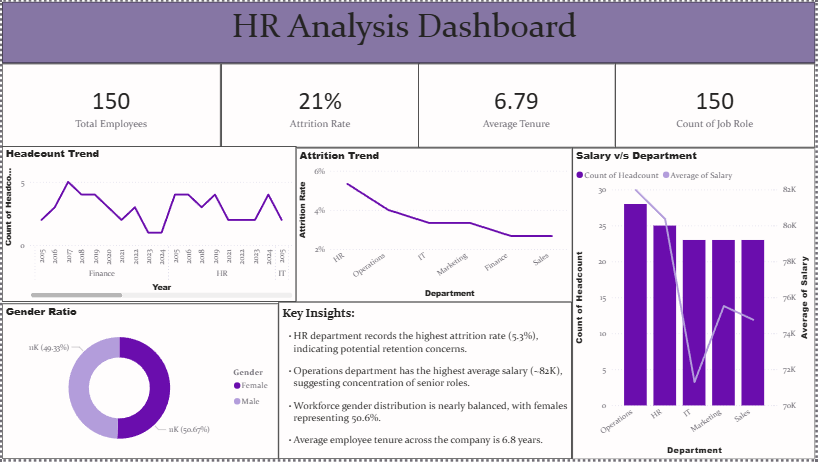

The dashboard page shown, as its layout file describes it:
{"tool":"powerbi","page":{"name":"Page 1","canvas":[1280,720],"ordinal":0},"visuals":[{"type":"card","fields":{"Values":["Count(HR_Dataset_150_Employees.Employee ID)"]},"box":[0,96.7,316.7,131.7],"z":0},{"type":"card","fields":{"Values":["HR_Dataset_150_Employees.Attrition Rate"]},"box":[316.7,98.3,316.7,131.7],"z":1000},{"type":"card","fields":{"Values":["Avg(HR_Dataset_150_Employees.average tenure)"]},"box":[633.3,98.3,333.3,131.7],"z":2000},{"type":"card","fields":{"Values":["Avg(HR_Dataset_150_Employees.Salary)"]},"box":[966.7,96.7,313.3,135],"z":3000},{"type":"textbox","box":[0,0,1280,97.1],"z":4000},{"type":"lineChart","title":"Year-wise Hiring Trend","fields":{"Y":["CountNonNull(HR_Dataset_150_Employees.Headcount)"],"Category":["HR_Dataset_150_Employees.Hire Date.Variation.Date Hierarchy.Year"]},"box":[0,228.3,463.3,245],"z":5000},{"type":"lineChart","title":"Attrition rate by Department","fields":{"Y":["HR_Dataset_150_Employees.Attrition Rate"],"Category":["HR_Dataset_150_Employees.Department"]},"box":[463.3,230,435,243.3],"z":6000},{"type":"lineStackedColumnComboChart","title":"Salary v/s Department","fields":{"Category":["HR_Dataset_150_Employees.Department"],"Y":["CountNonNull(HR_Dataset_150_Employees.Headcount)"],"Y2":["Avg(HR_Dataset_150_Employees.Salary)"]},"box":[897.5,230,382.5,490],"z":7000},{"type":"donutChart","title":"Gender Ratio","fields":{"Category":["HR_Dataset_150_Employees.Gender"],"Y":["Sum(HR_Dataset_150_Employees.Headcount)"]},"box":[0,475,463.8,245],"z":9000},{"type":"textbox","box":[463.8,472.5,433.8,247.5],"z":9001}]}

Visuals, with their boxes in screenshot pixels (x1, y1, x2, y2), scaled from the page's 1280x720 canvas onto the 819x467 screenshot:
card - Count(HR_Dataset_150_Employees.Employee ID): <bbox>0, 63, 203, 148</bbox>
card - HR_Dataset_150_Employees.Attrition Rate: <bbox>203, 64, 405, 149</bbox>
card - Avg(HR_Dataset_150_Employees.average tenure): <bbox>405, 64, 618, 149</bbox>
card - Avg(HR_Dataset_150_Employees.Salary): <bbox>619, 63, 818, 150</bbox>
textbox: <bbox>0, 0, 818, 63</bbox>
"Year-wise Hiring Trend" lineChart: <bbox>0, 148, 296, 307</bbox>
"Attrition rate by Department" lineChart: <bbox>296, 149, 575, 307</bbox>
"Salary v/s Department" lineStackedColumnComboChart: <bbox>574, 149, 818, 466</bbox>
"Gender Ratio" donutChart: <bbox>0, 308, 297, 466</bbox>
textbox: <bbox>297, 306, 574, 466</bbox>
